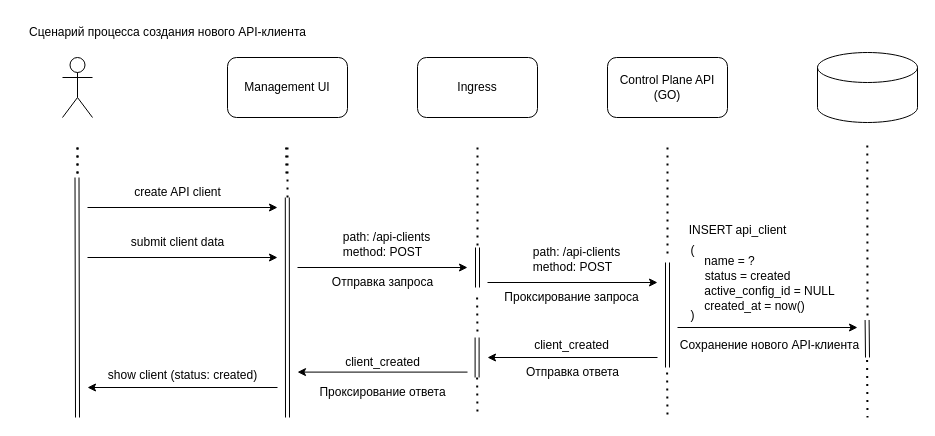
This 935x436 diagram has some shape labels left out. Each missing label, with the centre of its shape:
"Database" belongs at (x=867, y=87).
"Devops" belongs at (x=77, y=87).
